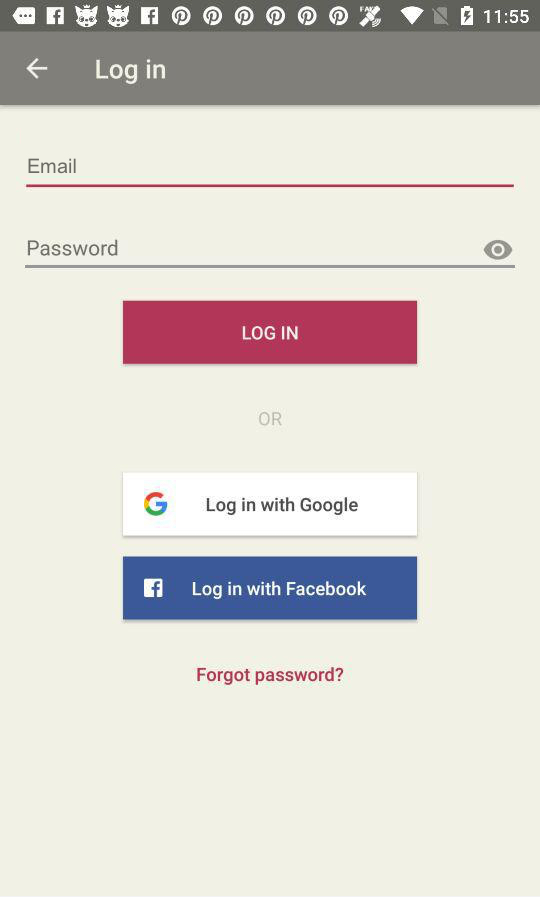EditText: (26, 158, 515, 189), (25, 239, 516, 269)
Icon: (483, 240, 513, 261), (26, 58, 49, 81)
Text: (197, 666, 344, 686), (96, 59, 167, 86), (28, 240, 119, 257), (29, 158, 78, 175), (259, 412, 283, 427)
TextButton: (123, 472, 418, 537), (123, 556, 418, 620), (123, 301, 418, 365)
Toolbar: (1, 32, 540, 106)
UpperTaskBar: (1, 1, 540, 32)
